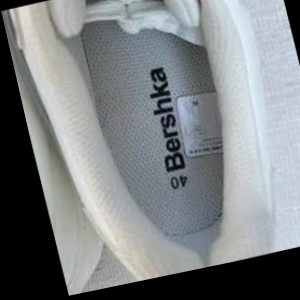bershka: (99, 5, 235, 108)
